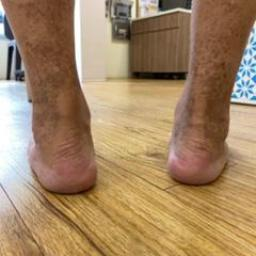Back View -Both Feet-: (8, 45, 248, 208)
